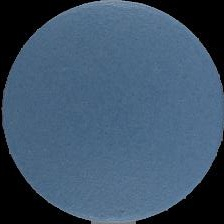64764-890: (0, 0, 224, 224)
